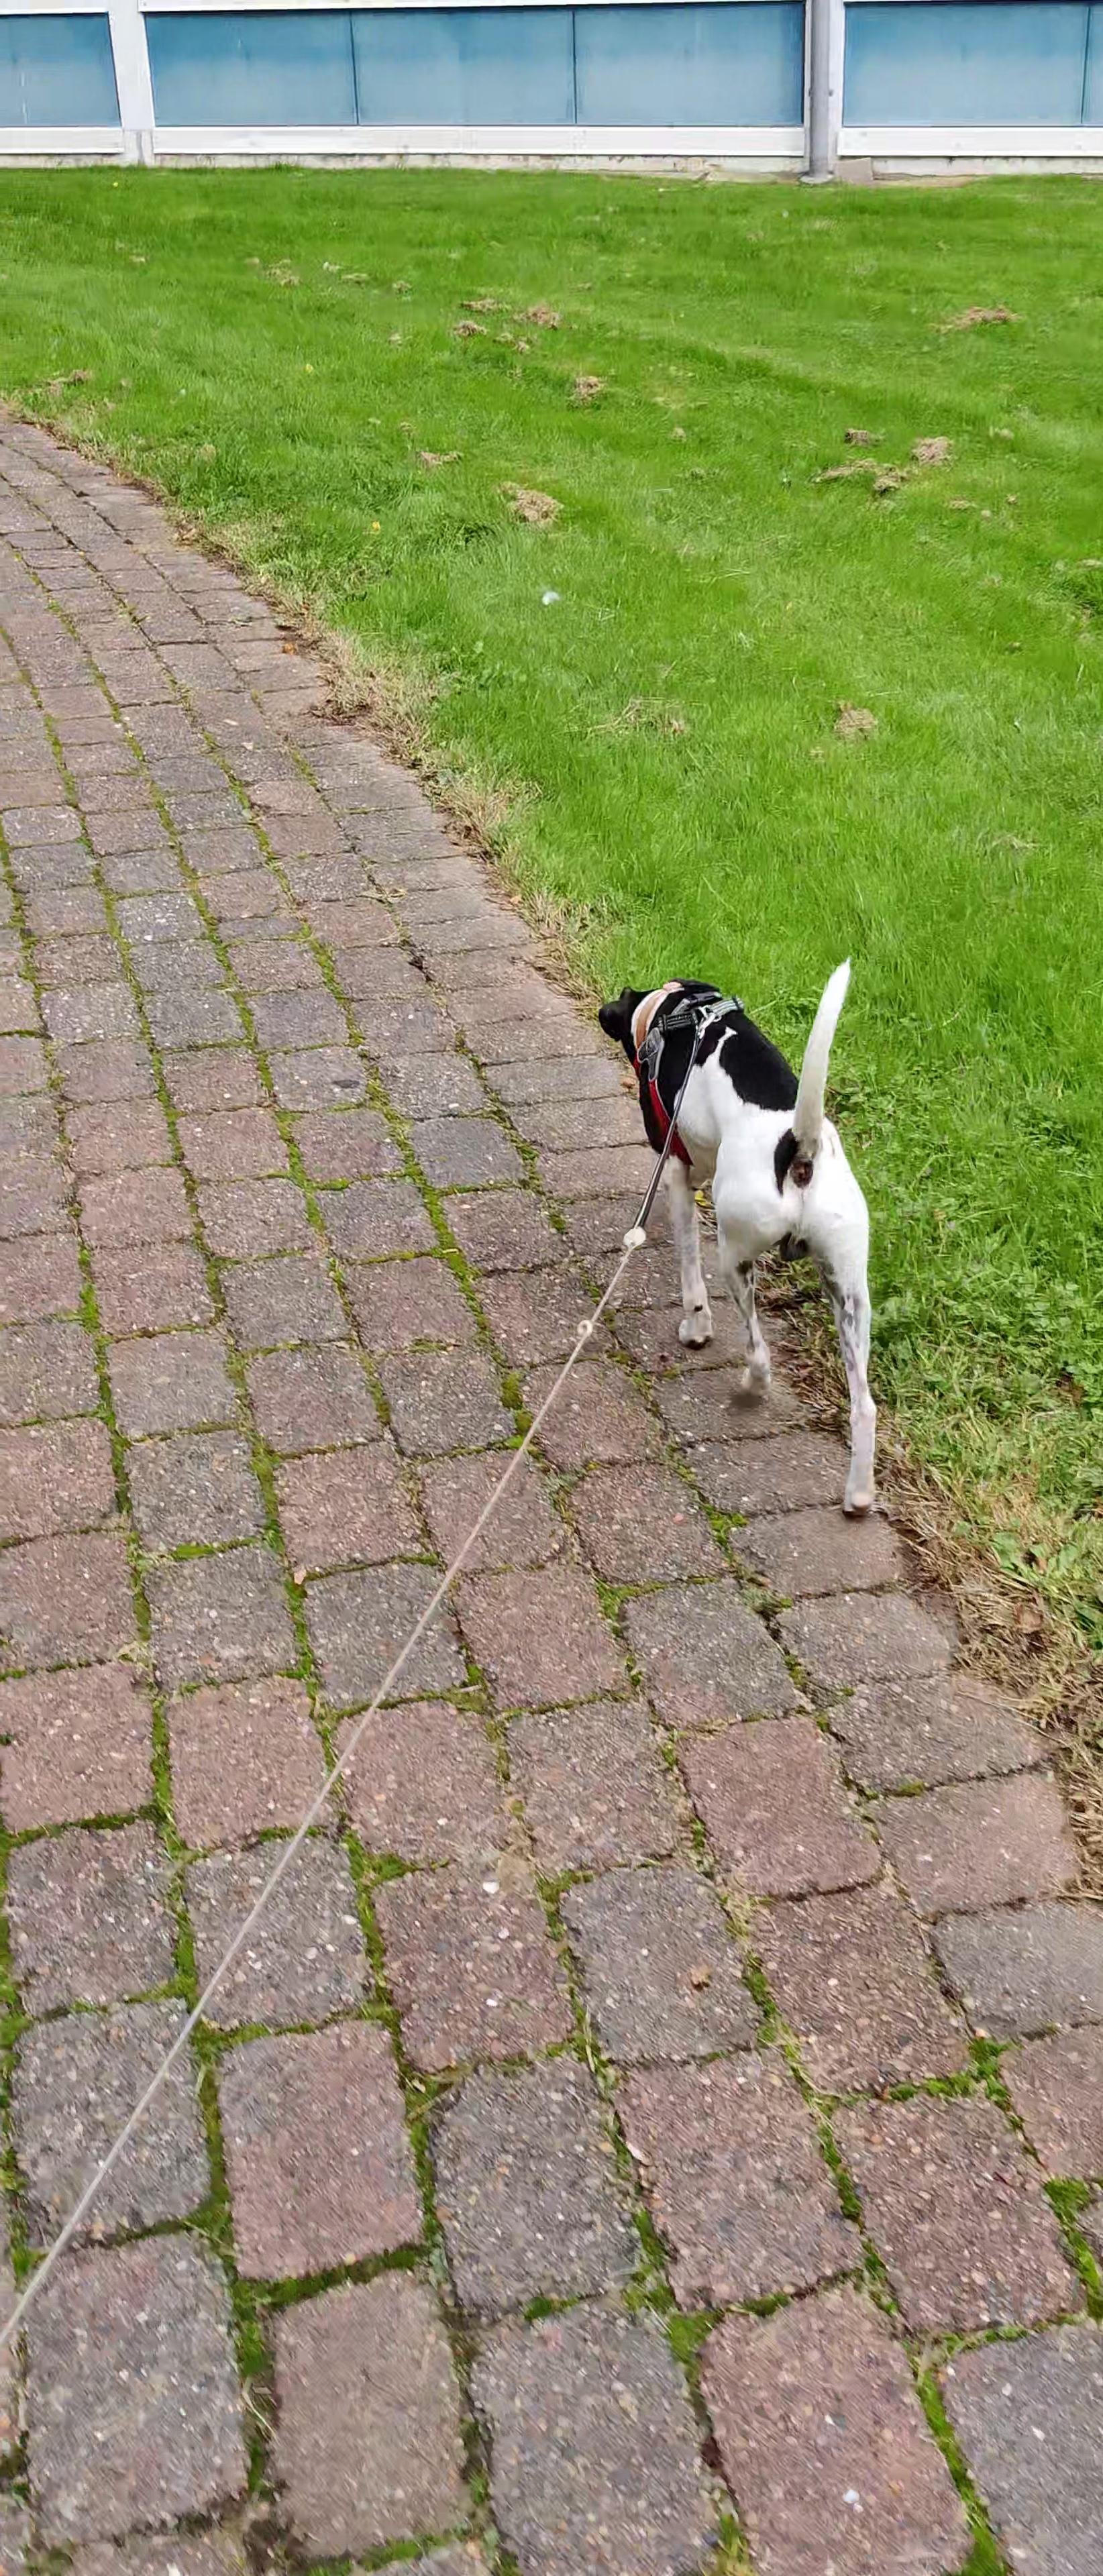Dog: (569, 913, 921, 1544)
